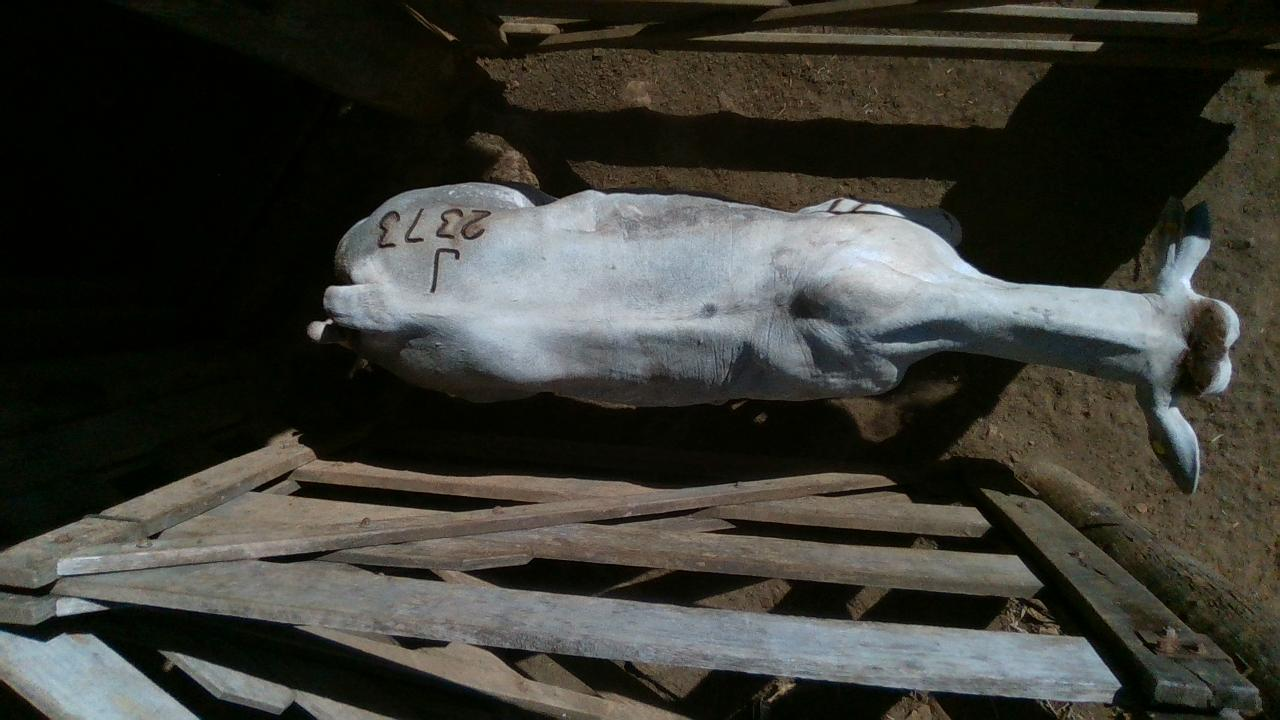cattle: (305, 178, 1241, 494)
